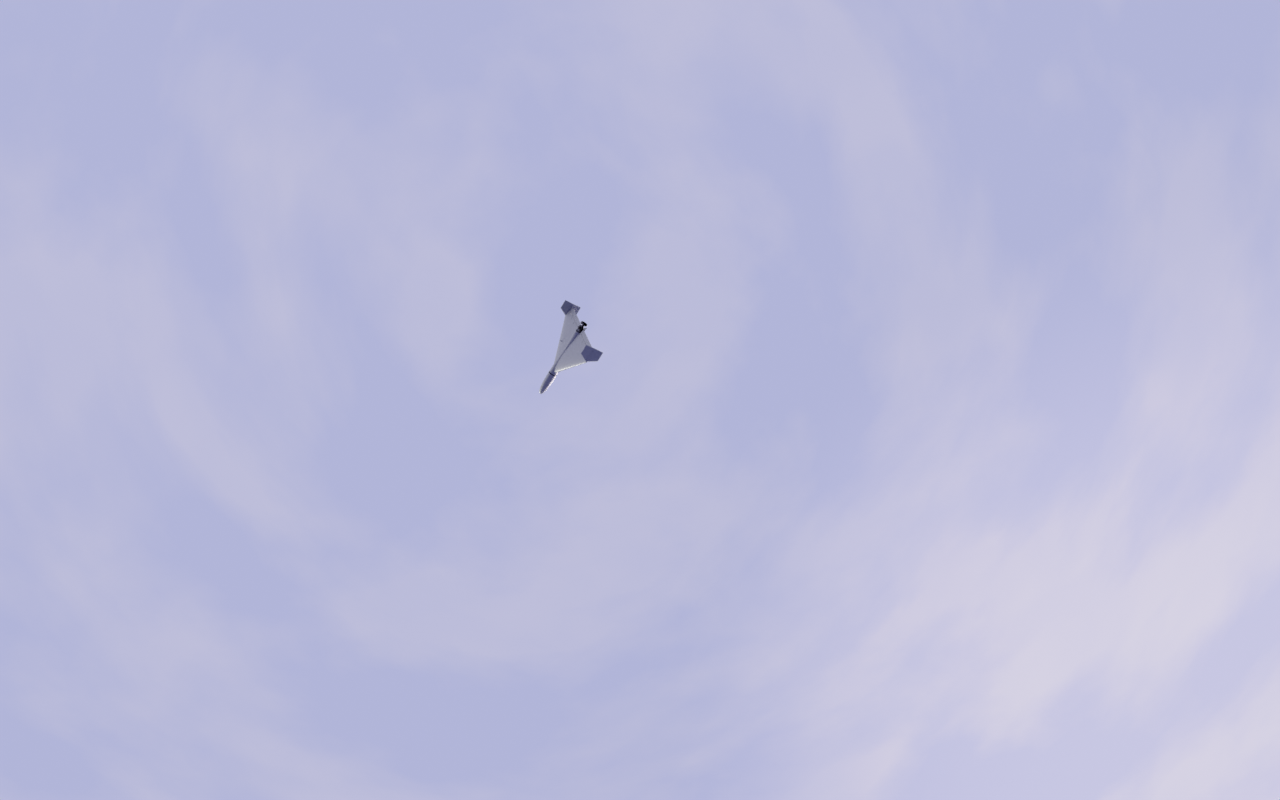shahed: (539, 300, 605, 396)
